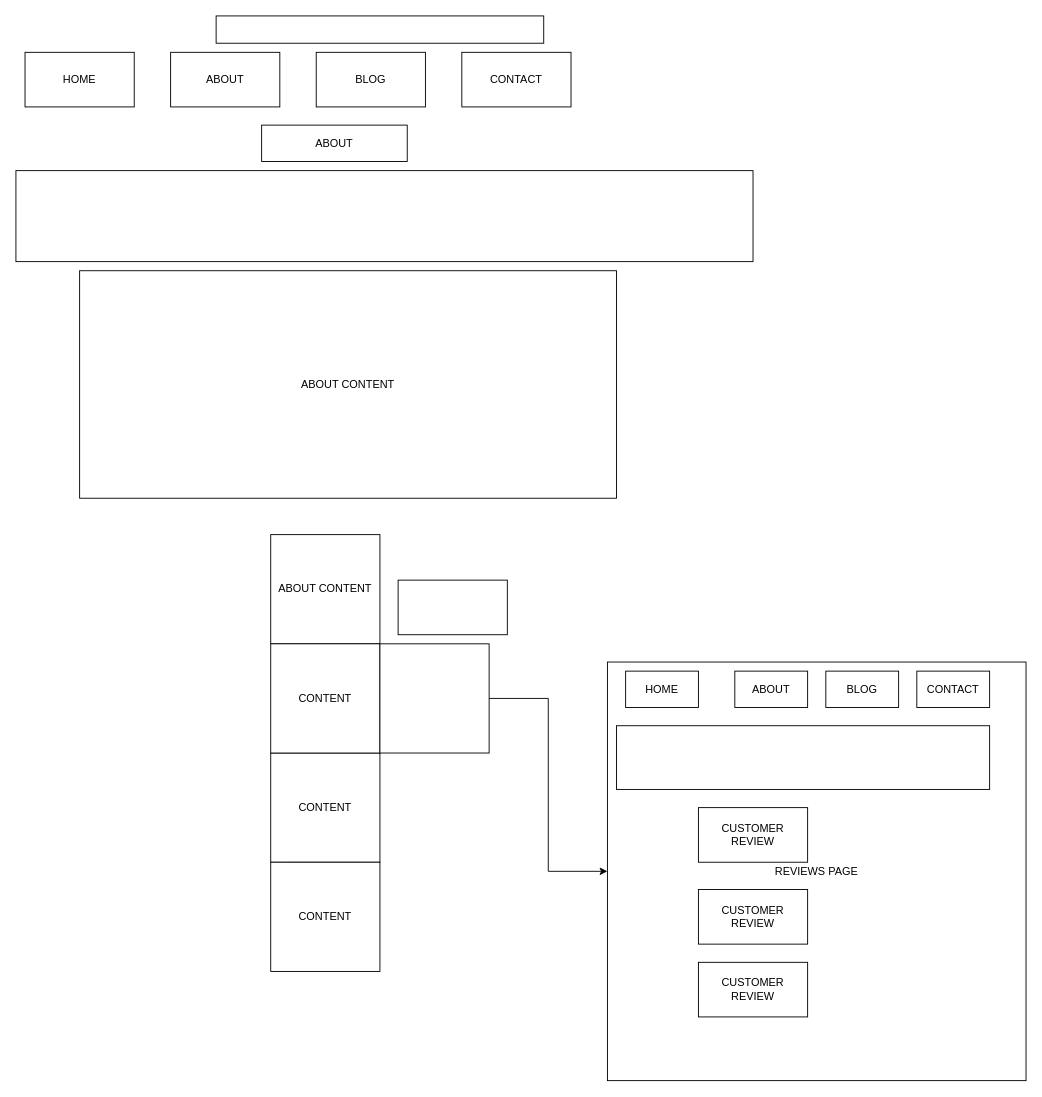
This 1042x1097 diagram has some shape labels left out. Here are the shapes that lost their labels. From the top down, the box of each, then its label:
(215, 15, 544, 43): ABOUT PAGE
(15, 170, 753, 262): IMAGE ABOUT BANNER
(379, 643, 489, 753): CUSTOMER REVIEW W/PIC
(616, 725, 990, 789): REVIEW BANNER
